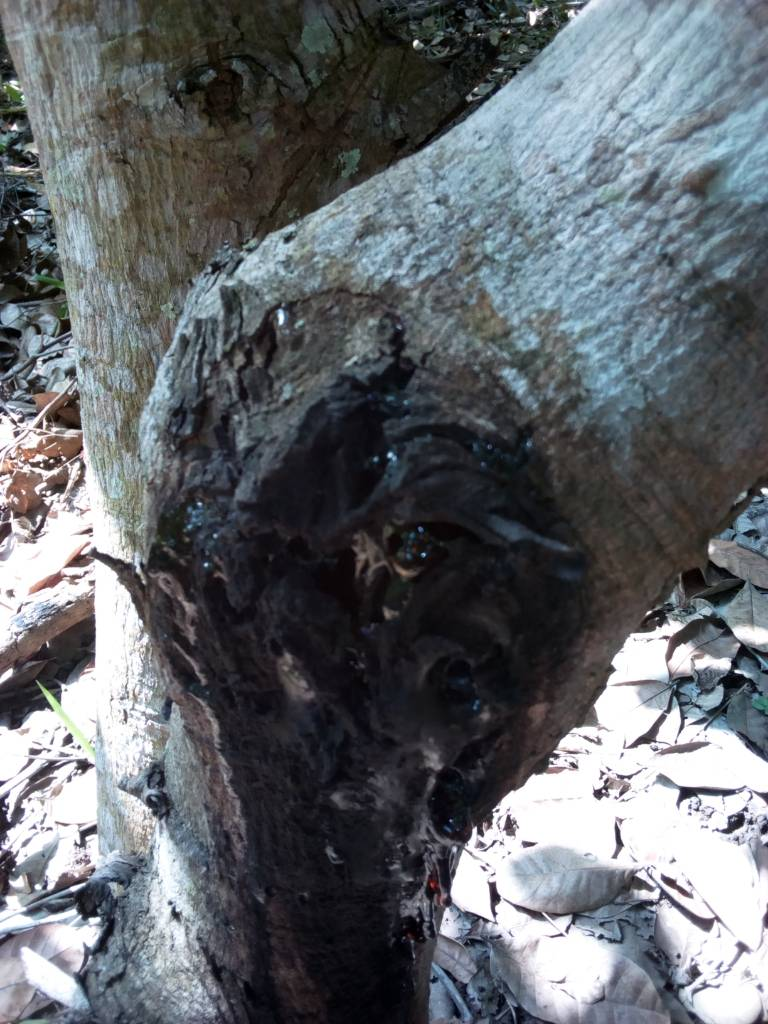Gommose: (157, 333, 565, 1008)
